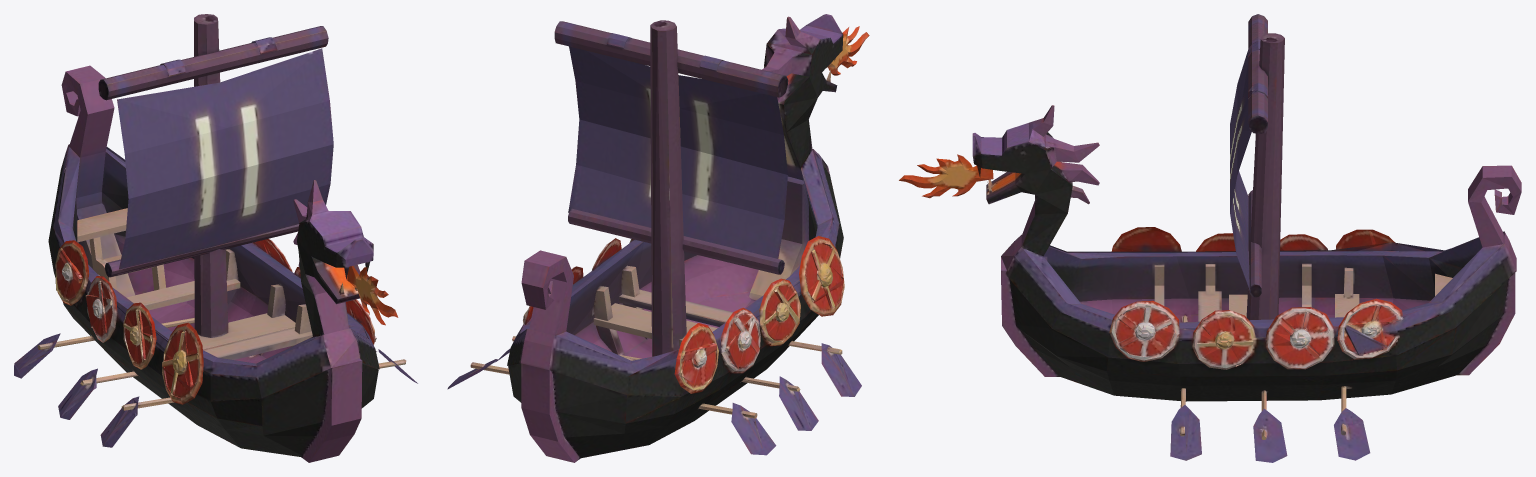
The model's file is jarl.glb.
The picture shows the model from 3 angles, left to right: view 1: azimuth 30°, elevation 25°; view 2: azimuth 150°, elevation 25°; view 3: azimuth 270°, elevation 25°; orthographic projection. The views are drawn at different scales.
Visible parts, largest first — view 1: tripo_node_409bfc8c-a3c2-4398-8bcd-4fdb13273c07; view 2: tripo_node_409bfc8c-a3c2-4398-8bcd-4fdb13273c07; view 3: tripo_node_409bfc8c-a3c2-4398-8bcd-4fdb13273c07.
Part boxes in pixels (x1,y1,x2,y2): tripo_node_409bfc8c-a3c2-4398-8bcd-4fdb13273c07: [14, 14, 417, 462]; tripo_node_409bfc8c-a3c2-4398-8bcd-4fdb13273c07: [447, 14, 869, 462]; tripo_node_409bfc8c-a3c2-4398-8bcd-4fdb13273c07: [899, 14, 1521, 462].
Size of the model in its own units: 0.5527 by 0.623 by 0.998.
1 material, 1 textured.
